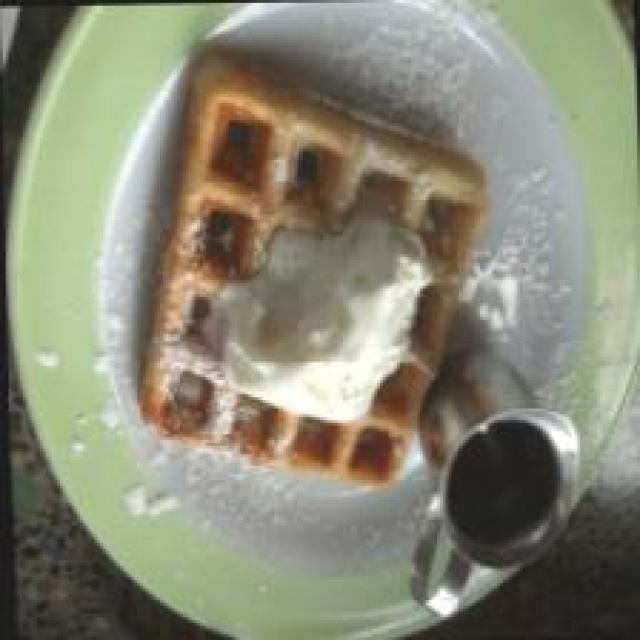Waffles: (126, 46, 500, 491)
